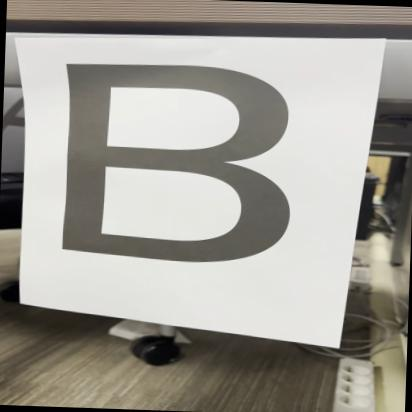seat: (44, 52, 315, 277)
